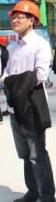boots: (0, 115, 7, 126), (0, 119, 7, 126)
hard-hat: (8, 0, 40, 23)
